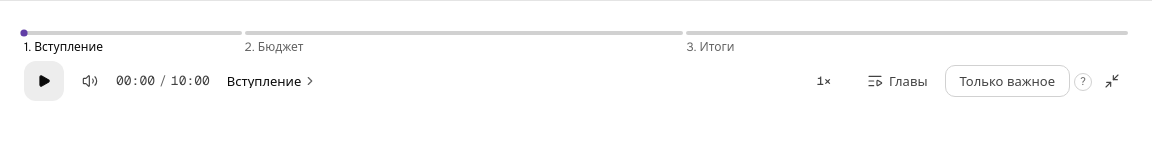
Test: громкость: ползунок меняет громкость, 0 — без звука
Set the slider named "Громкость" to "0.4": (174, 81) [24, 61, 324, 101]
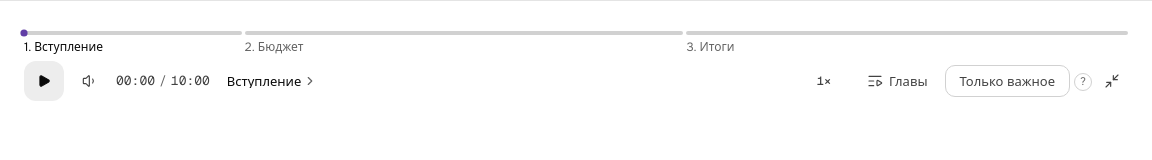
Set the slider named "Громкость" to "0": (174, 81) [24, 61, 324, 101]
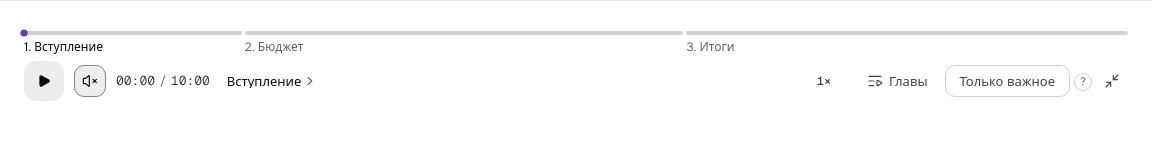
Expected: the button named "Включить звук" is shown, [74, 65, 106, 97]
